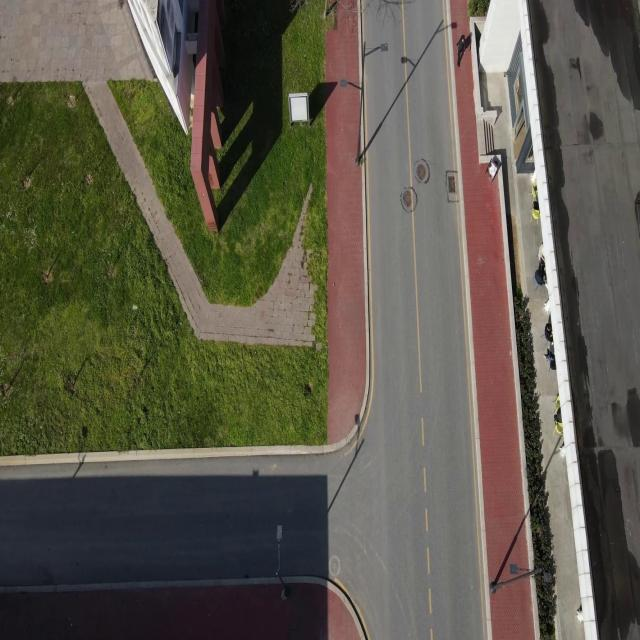p3rson: (456, 32, 466, 67), (543, 346, 557, 370), (538, 259, 547, 284), (545, 320, 553, 346)
